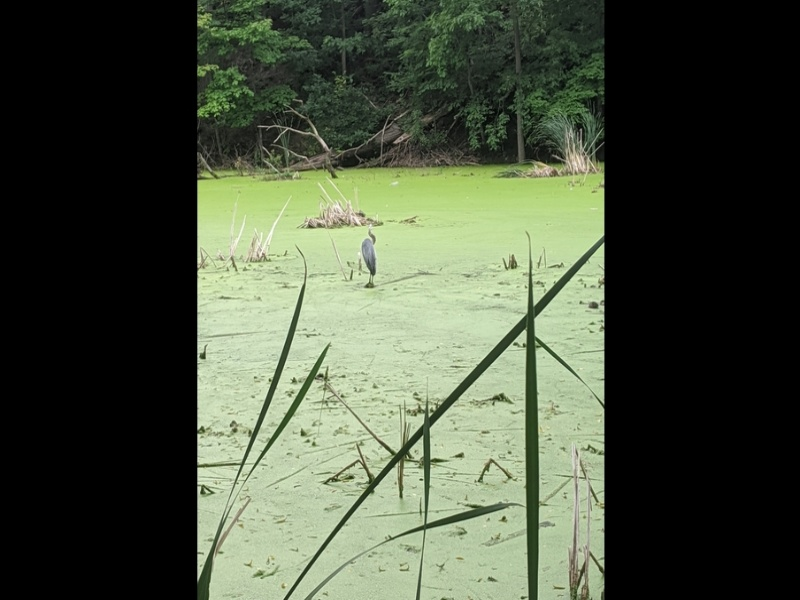heron: (358, 220, 378, 285)
